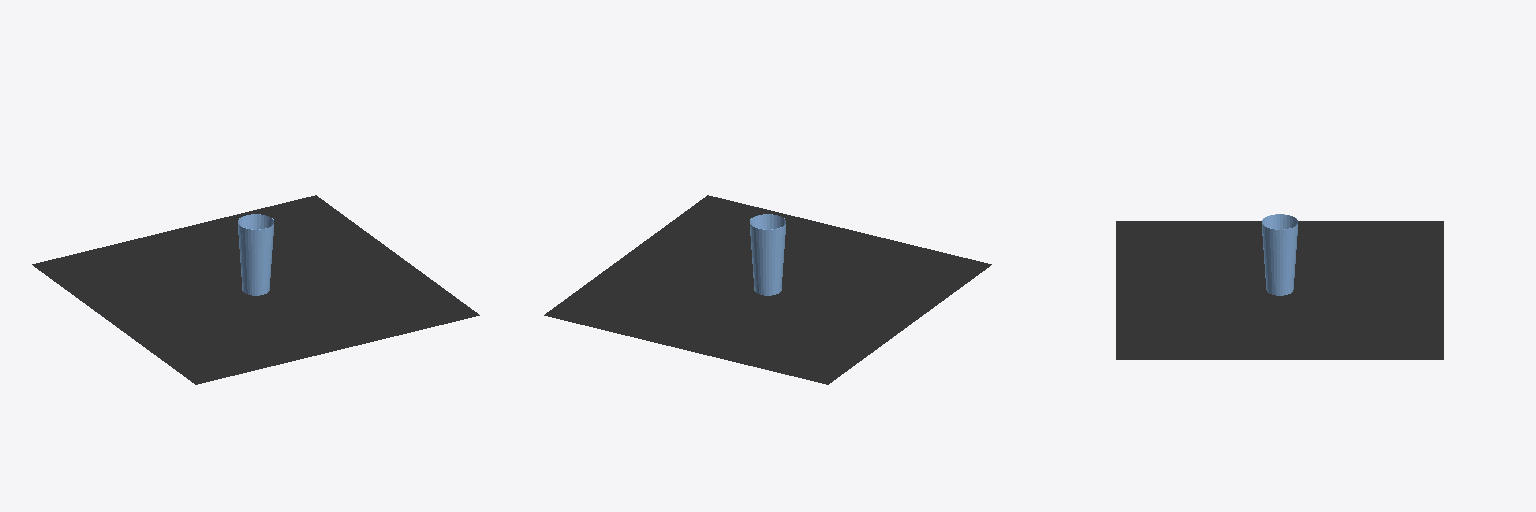
File: Cup_Made_By_Tyro_Smith.obj
The picture shows the model from 3 angles: view 1: azimuth 30°, elevation 25°; view 2: azimuth 150°, elevation 25°; view 3: azimuth 270°, elevation 25°; orthographic projection.
Visible parts, largest first — view 1: Plane, Cylinder_Cylinder.003; view 2: Plane, Cylinder_Cylinder.003; view 3: Plane, Cylinder_Cylinder.003.
Boxes of the visible parts, x1=… form: Plane: x1=32, y1=195, x2=479, y2=384; Cylinder_Cylinder.003: x1=238, y1=214, x2=273, y2=295; Plane: x1=544, y1=195, x2=991, y2=384; Cylinder_Cylinder.003: x1=750, y1=214, x2=785, y2=295; Plane: x1=1116, y1=221, x2=1443, y2=359; Cylinder_Cylinder.003: x1=1262, y1=214, x2=1297, y2=295.
Size of the model in its own units: 18.89 by 4.32 by 18.89.